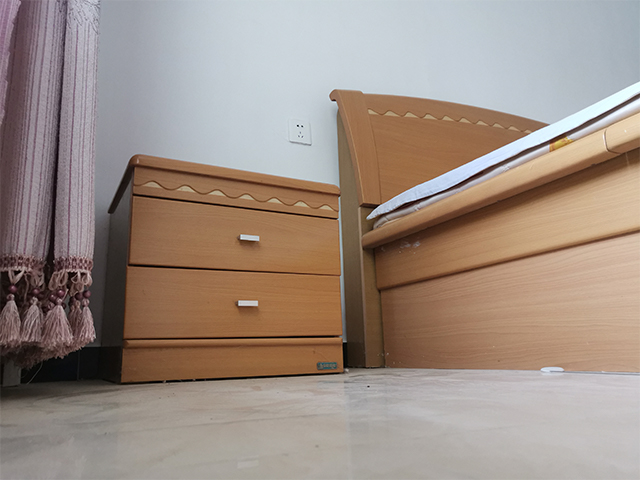bed: (327, 81, 640, 374)
cabinet: (96, 153, 346, 386)
curtain: (1, 1, 99, 371)
